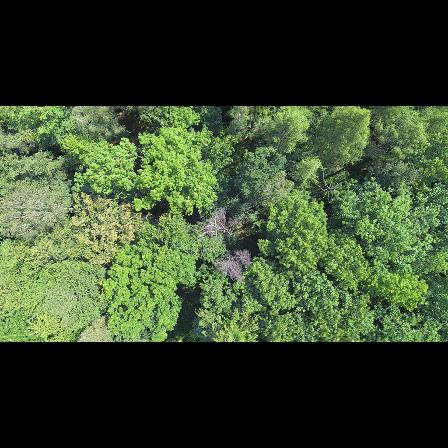Dead: (197, 206, 255, 238), (212, 245, 253, 276)
